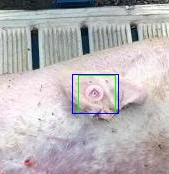text: (78, 75, 115, 113)
